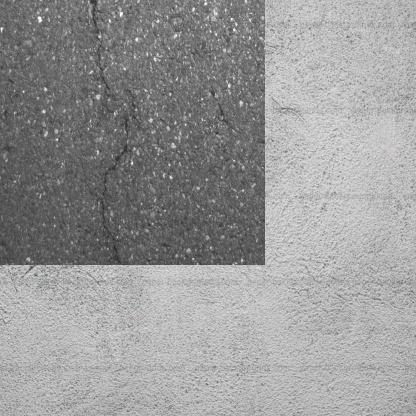Cracks: (91, 91, 129, 239), (82, 0, 106, 87)
